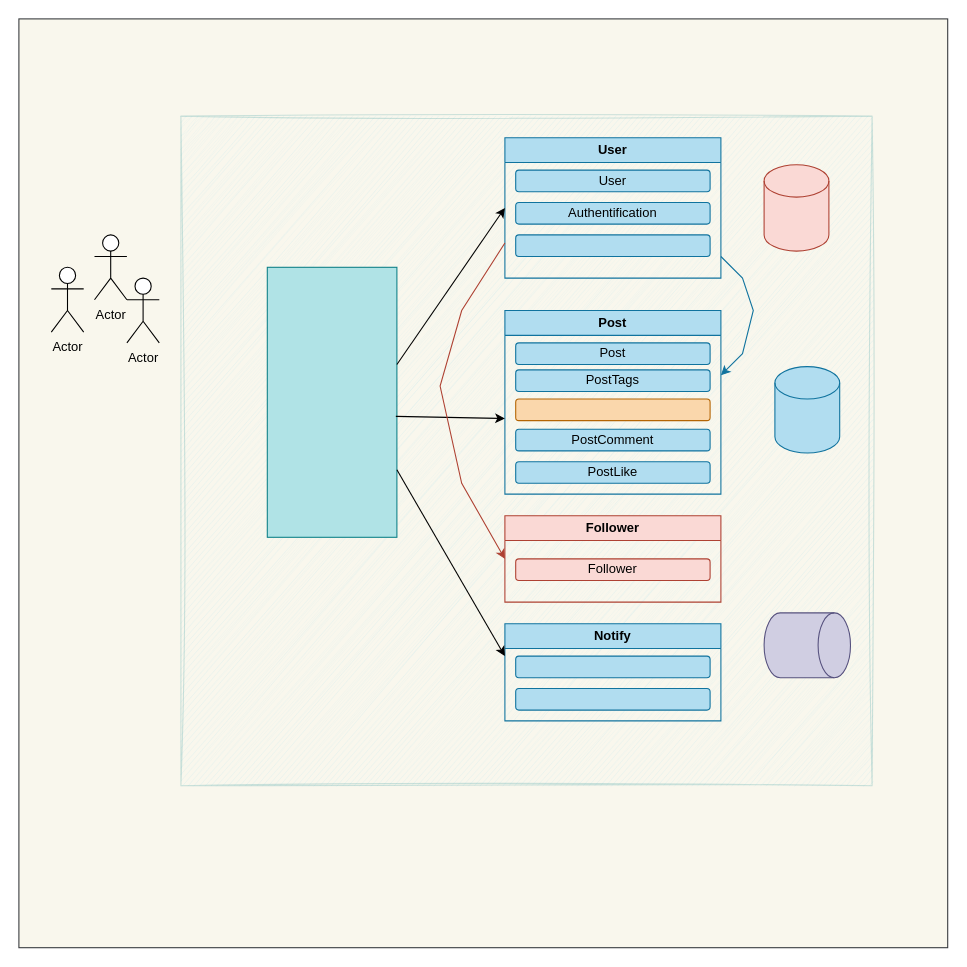
Some shapes in this 967 by 967 pixel diagram are drawn without their labels. Here are the shapes that lost their labels. From the top down, the box of each, then its label:
(515, 234, 710, 256): RefreshToken
(266, 266, 397, 537): API Gateway
(515, 398, 710, 421): Repost
(515, 655, 710, 678): Subscribe
(515, 687, 710, 710): Email
